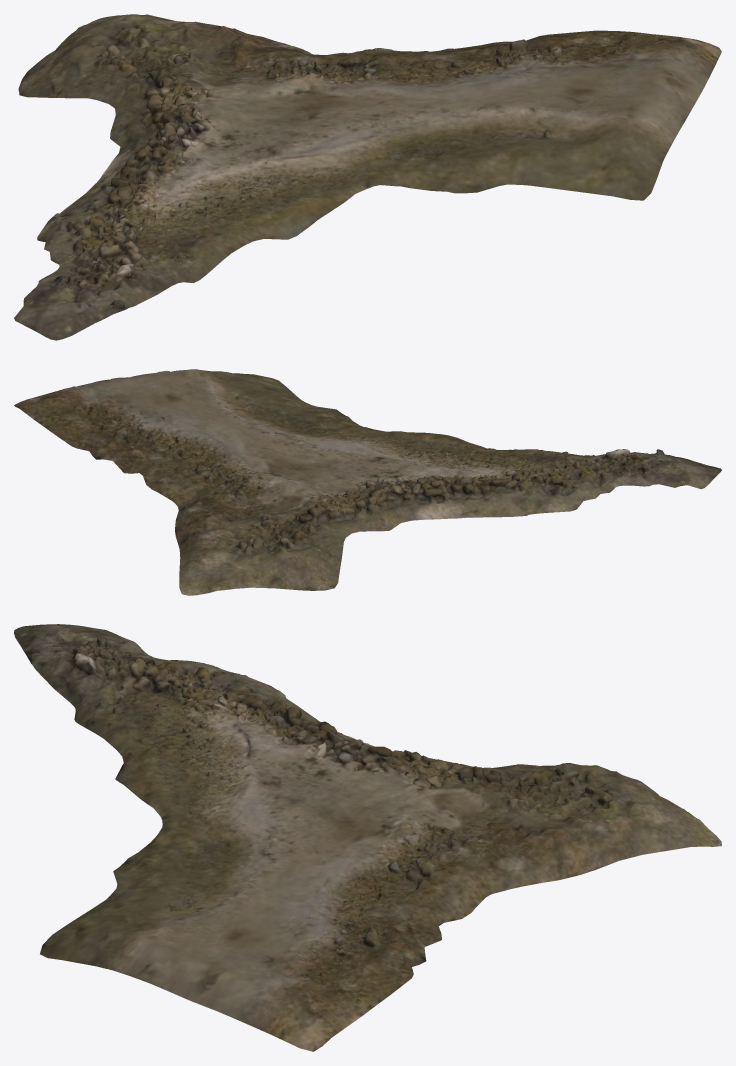
Rendered from coast_rocks_01.gltf.
3 views of the same model, one above another, from view 1: azimuth 30°, elevation 25°; view 2: azimuth 150°, elevation 25°; view 3: azimuth 270°, elevation 25° (orthographic). The views are drawn at different scales.
Visible parts, largest first — view 1: coast_rocks_01; view 2: coast_rocks_01; view 3: coast_rocks_01.
Boxes of the visible parts, left/top/right/bottom form: coast_rocks_01: left=14, top=14, right=721, bottom=340; coast_rocks_01: left=14, top=369, right=721, bottom=595; coast_rocks_01: left=14, top=624, right=721, bottom=1051.
Bounding box in the file's own units: 59.49 × 3.28 × 42.51.
1 material, 1 textured.
